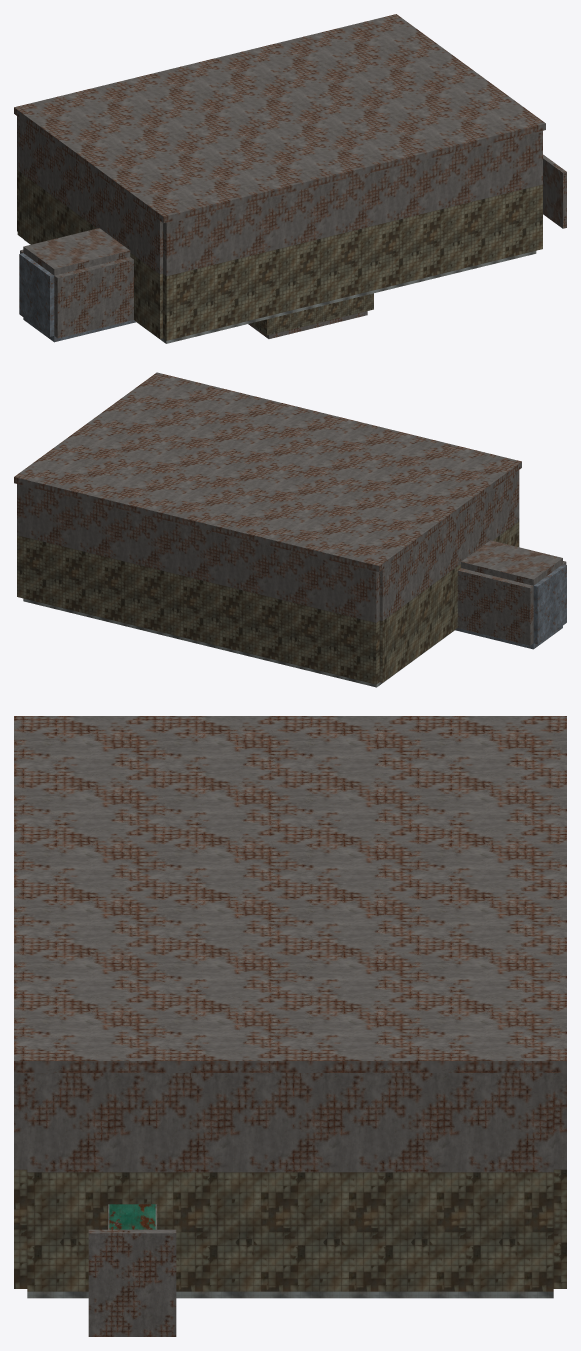
The model's file is sala_pompe.gltf.
The picture shows the model from 3 angles, top to bottom: view 1: azimuth 30°, elevation 25°; view 2: azimuth 150°, elevation 25°; view 3: azimuth 270°, elevation 25°; orthographic projection. The views are drawn at different scales.
Visible parts, largest first — view 1: SALA_struttura, SALA_vasca; view 2: SALA_struttura; view 3: SALA_struttura, PORTA_ponte.
Boxes of the visible parts, x1,y1,x2,y2 form: SALA_struttura: [14, 14, 566, 343]; SALA_vasca: [248, 293, 373, 338]; SALA_struttura: [14, 372, 566, 687]; SALA_struttura: [14, 716, 566, 1336]; PORTA_ponte: [109, 1204, 155, 1229].
Size of what is drawn, in the model's own units: 24.5 by 7.8 by 12.6.
